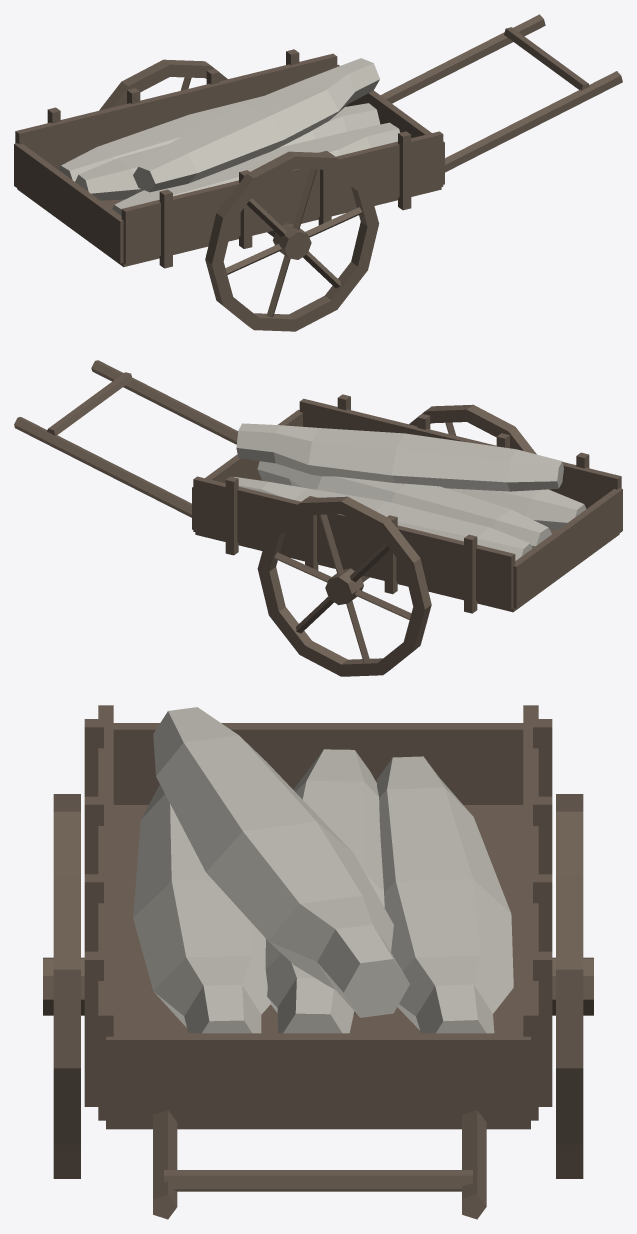
The model's file is dead_cart.glb.
The picture shows the model from 3 angles, top to bottom: view 1: azimuth 30°, elevation 25°; view 2: azimuth 150°, elevation 25°; view 3: azimuth 270°, elevation 25°; orthographic projection. The views are drawn at different scales.
Visible parts, largest first — view 1: dead_cart; view 2: dead_cart; view 3: dead_cart.
Boxes of the visible parts, x1,y1,x2,y2 form: dead_cart: [14, 14, 622, 331]; dead_cart: [14, 360, 622, 676]; dead_cart: [43, 705, 593, 1219].
Size of the model in its own units: 3.08 by 1.01 by 1.43.
